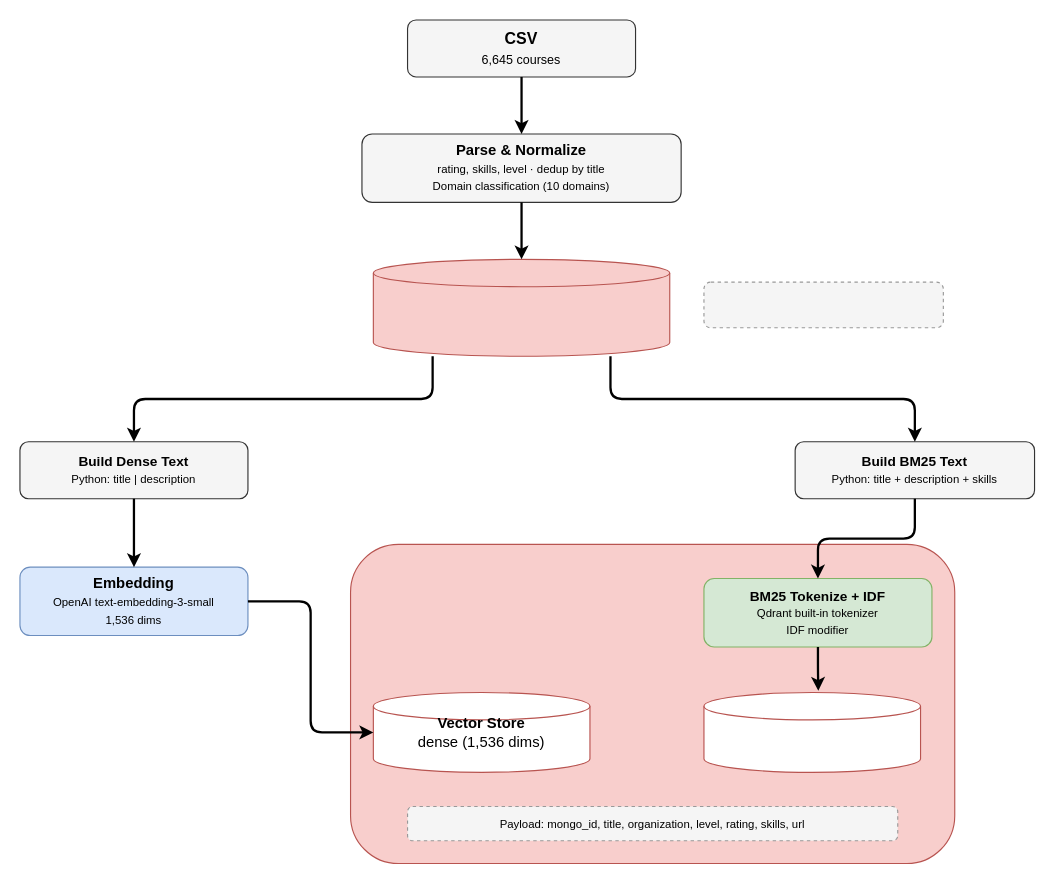
This 1055x884 diagram has some shape labels left out. The shapes that lost their labels are listed below. From the top down, each one's box as (x1, y1, x2, y2) in pixels, then its label:
(372, 258, 670, 356): MongoDB courses collection + text index [title, description, skills]
(703, 281, 943, 328): No chunking — each course = 1 document (metadata is short enough)
(349, 543, 955, 864): Qdrant (collection: courses)
(703, 691, 921, 772): Inverted Index sparse (BM25)
